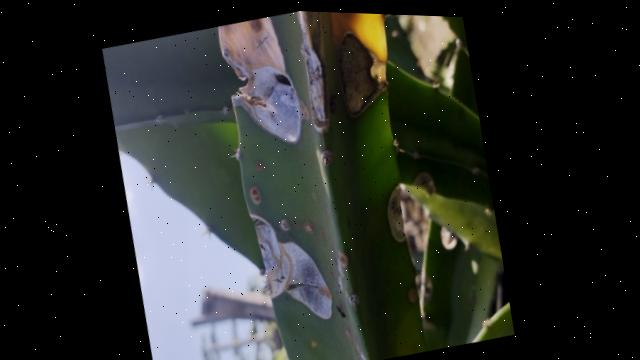stemcanker: (240, 184, 270, 207), (275, 212, 297, 232)
